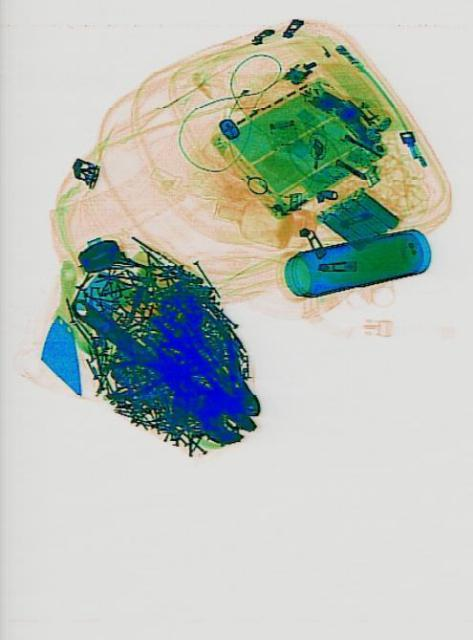Wrench: (59, 278, 258, 460)
